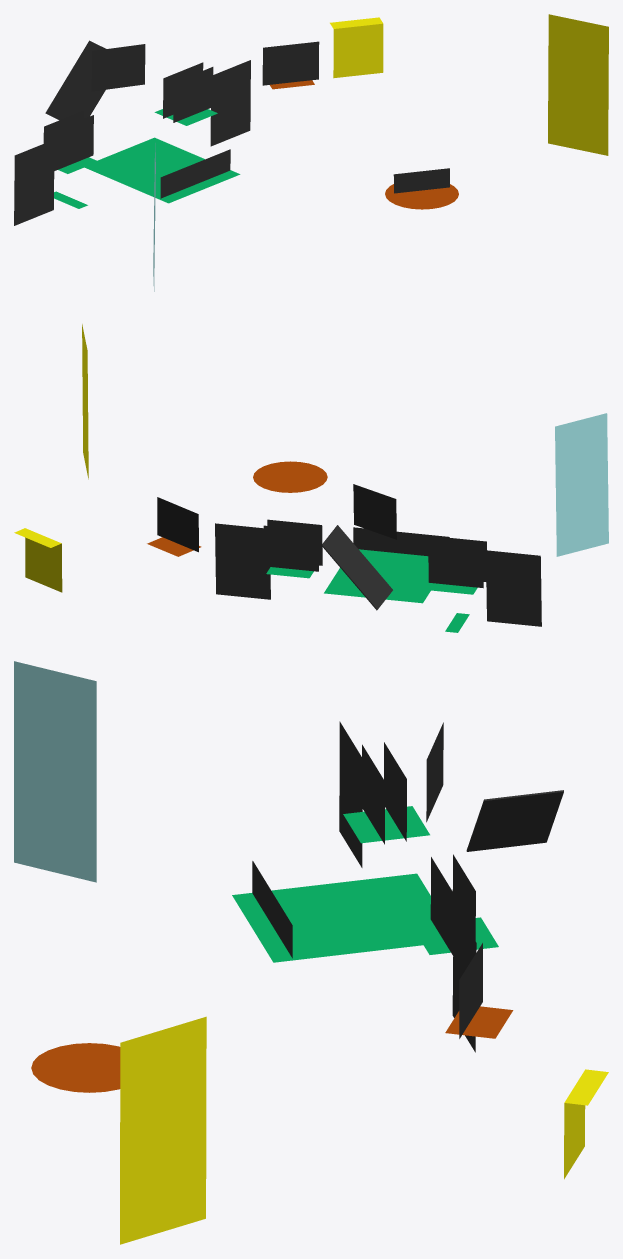
The model's file is testmesh.fbx.
The picture shows the model from 3 angles, top to bottom: view 1: azimuth 30°, elevation 25°; view 2: azimuth 150°, elevation 25°; view 3: azimuth 270°, elevation 25°; orthographic projection. The views are drawn at different scales.
Visible parts, largest first — view 1: addedelements_blender:OBJ_hoteldoor, addedelements_blender:INV_OBJ_bedtopholder, addedelements_blender:OBJ_plantL, addedelements_blender:OBJ_plantR, addedelements_blender:OBJ_laundrychute_F, addedelements_blender:OBJ_safedoor, addedelements_blender:OBJ_painting, addedelements_blender:OBJ_phone, addedelements_blender:OBJ_detailobjR, addedelements_blender:OBJ_detailobjL, addedelements_blender:OBJ_towels, addedelements_blender:INV_OBJ_coffeetable_T (+3 smaller); view 2: addedelements_blender:OBJ_window, addedelements_blender:OBJ_plantL, addedelements_blender:OBJ_plantR, addedelements_blender:INV_OBJ_bedtopholder, addedelements_blender:OBJ_lampL, addedelements_blender:OBJ_lampR, addedelements_blender:OBJ_painting, addedelements_blender:INV_OBJ_coffeetable_T, addedelements_blender:OBJ_safedoor, addedelements_blender:OBJ_phone, addedelements_blender:OBJ_towels, addedelements_blender:OBJ_laundrychute_F (+4 smaller); view 3: addedelements_blender:OBJ_hoteldoor, addedelements_blender:OBJ_window, addedelements_blender:INV_OBJ_bedtopholder, addedelements_blender:OBJ_painting, addedelements_blender:INV_OBJ_coffeetable_T, addedelements_blender:OBJ_plantL, addedelements_blender:INV_OBJ_objholderL, addedelements_blender:OBJ_detailobjR, addedelements_blender:OBJ_detailobjL, addedelements_blender:OBJ_plantR, addedelements_blender:OBJ_lampL, addedelements_blender:OBJ_phone (+7 smaller).
Part boxes in pixels (x1,y1,x2,y2): addedelements_blender:OBJ_hoteldoor: (548, 14, 608, 155); addedelements_blender:INV_OBJ_bedtopholder: (84, 137, 240, 203); addedelements_blender:OBJ_plantL: (14, 140, 54, 225); addedelements_blender:OBJ_plantR: (210, 60, 250, 146); addedelements_blender:OBJ_laundrychute_F: (333, 23, 383, 78); addedelements_blender:OBJ_safedoor: (91, 44, 145, 91); addedelements_blender:OBJ_painting: (45, 40, 105, 120); addedelements_blender:OBJ_phone: (262, 41, 319, 85); addedelements_blender:OBJ_detailobjR: (173, 67, 213, 122); addedelements_blender:OBJ_detailobjL: (53, 115, 93, 171); addedelements_blender:OBJ_towels: (160, 149, 230, 198); addedelements_blender:INV_OBJ_coffeetable_T: (385, 184, 458, 209); addedelements_blender:OBJ_window: (555, 413, 608, 556); addedelements_blender:OBJ_plantL: (486, 550, 541, 626); addedelements_blender:OBJ_plantR: (215, 523, 270, 599); addedelements_blender:INV_OBJ_bedtopholder: (324, 549, 434, 603); addedelements_blender:OBJ_lampL: (428, 542, 483, 588); addedelements_blender:OBJ_lampR: (263, 525, 318, 571); addedelements_blender:OBJ_painting: (321, 525, 392, 610); addedelements_blender:INV_OBJ_coffeetable_T: (253, 461, 327, 492); addedelements_blender:OBJ_safedoor: (353, 484, 396, 539); addedelements_blender:OBJ_phone: (157, 497, 198, 552); addedelements_blender:OBJ_towels: (353, 527, 449, 556); addedelements_blender:OBJ_laundrychute_F: (25, 537, 62, 592); addedelements_blender:OBJ_hoteldoor: (120, 1016, 206, 1244); addedelements_blender:OBJ_window: (14, 661, 96, 882); addedelements_blender:INV_OBJ_bedtopholder: (232, 873, 432, 962); addedelements_blender:OBJ_painting: (466, 790, 563, 851); addedelements_blender:INV_OBJ_coffeetable_T: (31, 1043, 120, 1092); addedelements_blender:OBJ_plantL: (339, 721, 362, 867); addedelements_blender:INV_OBJ_objholderL: (343, 806, 429, 843); addedelements_blender:OBJ_detailobjR: (430, 857, 453, 956); addedelements_blender:OBJ_detailobjL: (362, 744, 384, 844); addedelements_blender:OBJ_plantR: (452, 906, 476, 1052); addedelements_blender:OBJ_lampL: (384, 742, 406, 841); addedelements_blender:OBJ_phone: (459, 943, 482, 1038).
Size of the model in its own units: 87.01 by 54.19 by 21.15.
